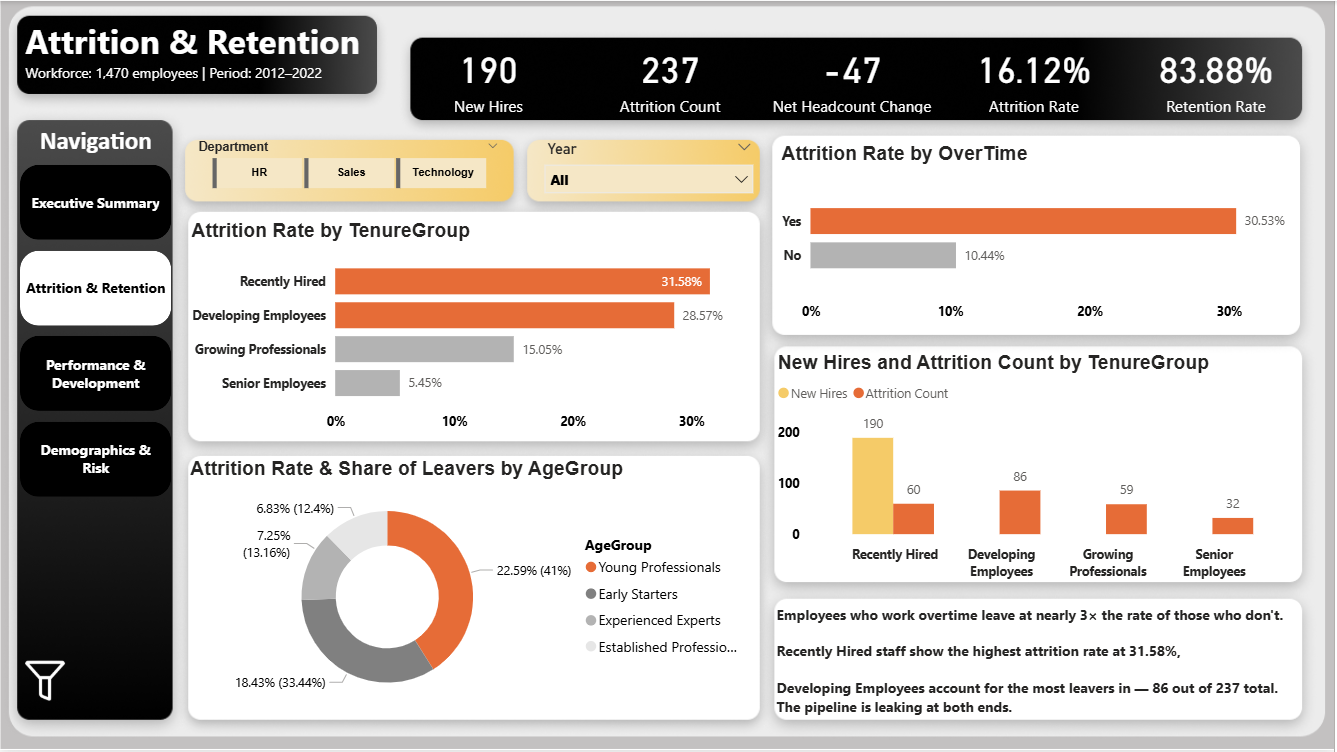

This screenshot's page, from the dashboard's own definition file:
{"tool":"powerbi","page":{"name":"Attrition & Retention","canvas":[1280,720],"ordinal":1},"visuals":[{"type":"card","fields":{"Values":["_Measures.New Hires"]},"box":[383.6,33.8,170.1,79.6],"z":0},{"type":"card","fields":{"Values":["_Measures.Attrition Count"]},"box":[557.7,33.6,171,79.8],"z":1000},{"type":"card","fields":{"Values":["_Measures.Net Headcount Change"]},"box":[732.5,33.6,169.7,79.8],"z":2000},{"type":"card","fields":{"Values":["_Measures.Attrition Rate"]},"box":[906.1,33.6,171,79.8],"z":3000},{"type":"card","fields":{"Values":["_Measures.Retention Rate"]},"box":[1081,33.8,170.1,79.6],"z":4000},{"type":"textbox","box":[739.5,574.3,529.6,123.1],"z":5000},{"type":"textbox","box":[19.3,12.1,364.3,79.6],"z":6000},{"type":"pageNavigator","box":[19.3,156.8,146,320],"z":7000},{"type":"slicer","fields":{"Values":["DimDate.Year"]},"box":[512,128.6,220.7,58],"z":8000},{"type":"slicer","fields":{"Values":["DimEmployee.Department"]},"box":[177.8,128.6,312.7,58],"z":9000},{"type":"clusteredBarChart","fields":{"Y":["_Measures.Attrition Rate"],"Category":["DimEmployee.TenureGroup"]},"box":[178.6,209.9,565.8,212.3],"z":10000},{"type":"donutChart","title":"Attrition Rate & Share of Leavers by AgeGroup","fields":{"Category":["DimEmployee.AgeGroup"],"Y":["_Measures.Attrition Rate"]},"box":[177.3,437.9,551.3,247.3],"z":11000},{"type":"clusteredBarChart","fields":{"Category":["DimEmployee.OverTime"],"Y":["_Measures.Attrition Rate"]},"box":[744.4,135.1,506.7,181],"z":12000},{"type":"clusteredColumnChart","fields":{"Category":["DimEmployee.TenureGroup"],"Y":["_Measures.New Hires","_Measures.Attrition Count"]},"box":[740.8,335.4,510.3,226.8],"z":13000},{"type":"image","box":[19.7,617.7,48.5,68.2],"z":14000},{"type":"textbox","box":[19.7,114.1,145.6,43.3],"z":14001}]}

Visuals, with their boxes in screenshot pixels (x1, y1, x2, y2), scaled from the page's 1280x720 canvas onto the 1337x752 screenshot:
card - _Measures.New Hires: <region>401, 35, 578, 118</region>
card - _Measures.Attrition Count: <region>583, 35, 761, 118</region>
card - _Measures.Net Headcount Change: <region>765, 35, 942, 118</region>
card - _Measures.Attrition Rate: <region>946, 35, 1125, 118</region>
card - _Measures.Retention Rate: <region>1129, 35, 1307, 118</region>
textbox: <region>772, 600, 1326, 728</region>
textbox: <region>20, 13, 401, 96</region>
pageNavigator: <region>20, 164, 173, 498</region>
slicer - DimDate.Year: <region>535, 134, 765, 195</region>
slicer - DimEmployee.Department: <region>186, 134, 512, 195</region>
clusteredBarChart - _Measures.Attrition Rate x DimEmployee.TenureGroup: <region>187, 219, 778, 441</region>
"Attrition Rate & Share of Leavers by AgeGroup" donutChart: <region>185, 457, 761, 716</region>
clusteredBarChart - DimEmployee.OverTime x _Measures.Attrition Rate: <region>778, 141, 1307, 330</region>
clusteredColumnChart - DimEmployee.TenureGroup x _Measures.New Hires: <region>774, 350, 1307, 587</region>
image: <region>21, 645, 71, 716</region>
textbox: <region>21, 119, 173, 164</region>
